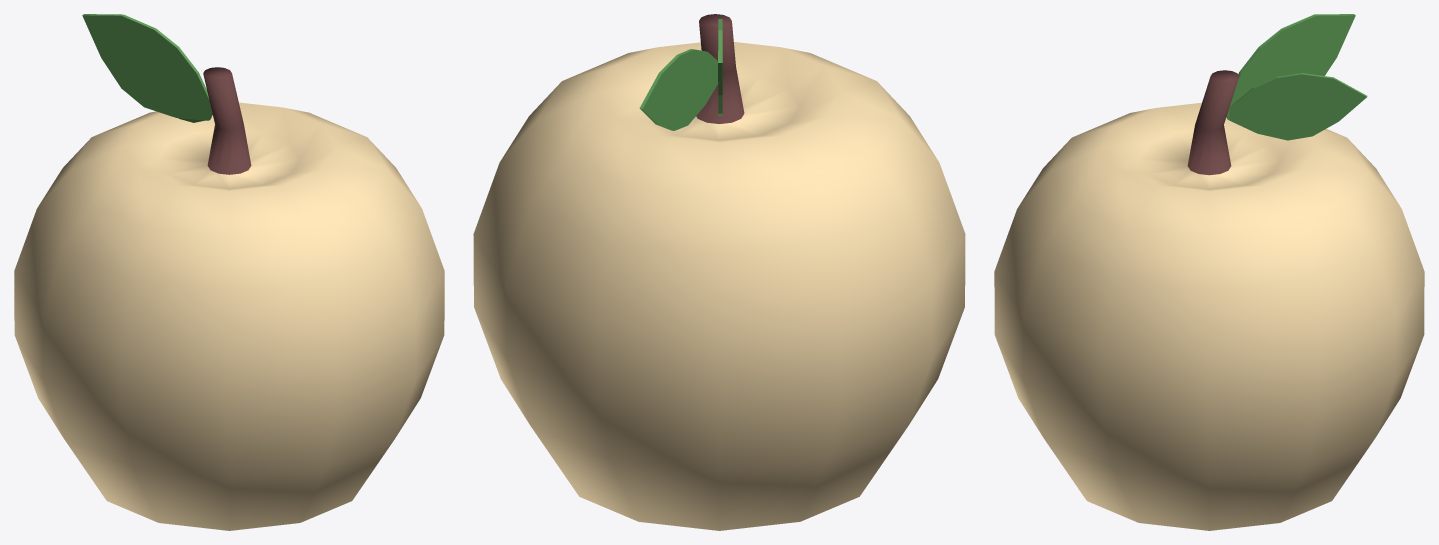
Rendered from Pesca.fbx.
3 views of the same model, side by side, from view 1: azimuth 30°, elevation 25°; view 2: azimuth 150°, elevation 25°; view 3: azimuth 270°, elevation 25° (orthographic). The views are drawn at different scales.
Visible parts, largest first — view 1: Pesca; view 2: Pesca; view 3: Pesca.
Boxes of the visible parts, left/top/right/bottom form: Pesca: left=14, top=14, right=444, bottom=530; Pesca: left=473, top=14, right=965, bottom=530; Pesca: left=994, top=14, right=1424, bottom=530.
Bounding box in the file's own units: 16.97 × 20.39 × 16.97.
